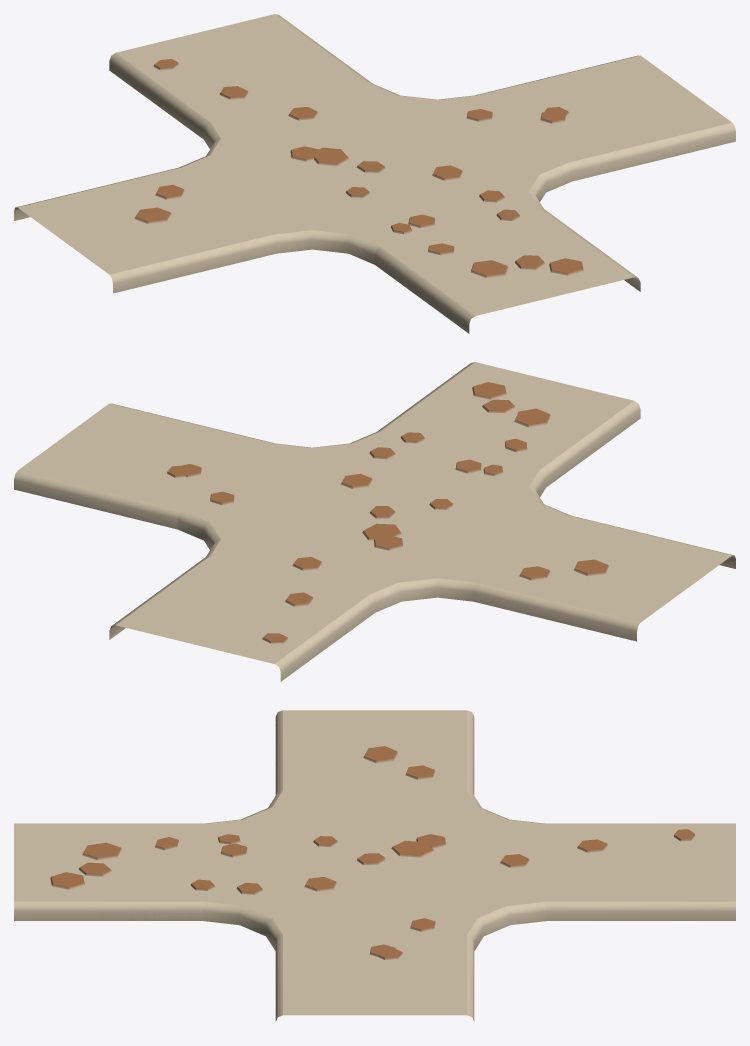
The model's file is path_kit.glb.
3 renders of one model, top to bottom at view 1: azimuth 30°, elevation 25°; view 2: azimuth 150°, elevation 25°; view 3: azimuth 270°, elevation 25°, orthographic.
Parts seen in each view (by area): view 1: path_cross, path_hole_pad, path_corner, path_straight, path_t, path_end; view 2: path_cross, path_corner, path_hole_pad, path_t, path_straight, path_end; view 3: path_cross, path_corner, path_hole_pad, path_t, path_end, path_straight.
Boxes of the visible parts, bbox=[...] form: path_cross: bbox=[14, 14, 638, 332]; path_hole_pad: bbox=[14, 15, 735, 331]; path_corner: bbox=[284, 55, 735, 333]; path_straight: bbox=[109, 15, 640, 329]; path_t: bbox=[15, 56, 636, 314]; path_end: bbox=[283, 126, 640, 315]; path_cross: bbox=[14, 401, 735, 681]; path_corner: bbox=[14, 362, 640, 551]; path_hole_pad: bbox=[14, 363, 735, 679]; path_t: bbox=[14, 402, 730, 640]; path_straight: bbox=[110, 363, 640, 681]; path_end: bbox=[284, 362, 636, 546]; path_cross: bbox=[16, 710, 735, 1018]; path_corner: bbox=[14, 823, 474, 1021]; path_hole_pad: bbox=[14, 710, 735, 1016]; path_t: bbox=[34, 710, 474, 1016]; path_end: bbox=[14, 824, 460, 920]; path_straight: bbox=[14, 824, 735, 920].
Size of the model in its own units: 2 by 0.056 by 2.
